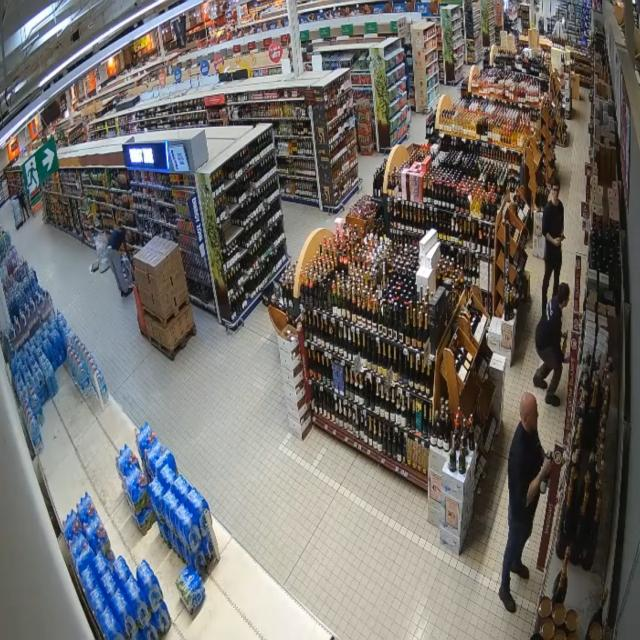article: (561, 330, 568, 354), (540, 480, 548, 494)
hands: (540, 457, 553, 478), (554, 238, 562, 247), (563, 354, 569, 363), (560, 233, 565, 241), (562, 332, 566, 337)
person: (499, 393, 551, 612), (533, 283, 569, 406), (542, 176, 564, 313), (107, 226, 132, 296), (18, 191, 29, 222)
